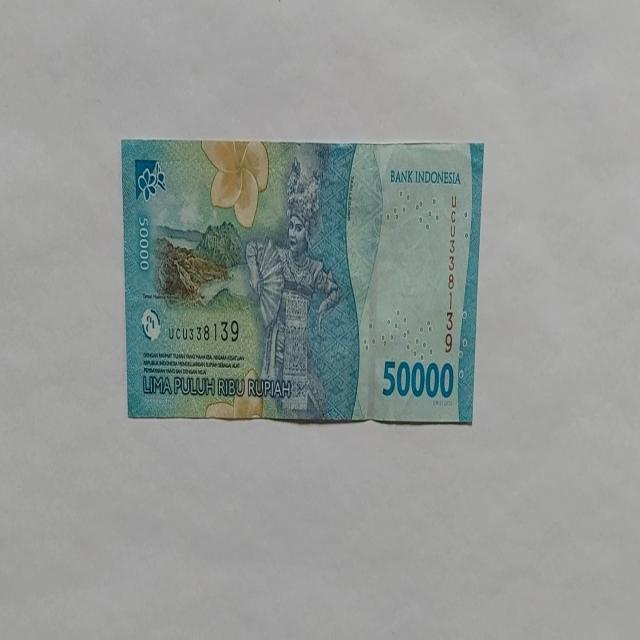lima puluh ribu rupiah: (121, 137, 484, 425), (244, 156, 342, 420)
